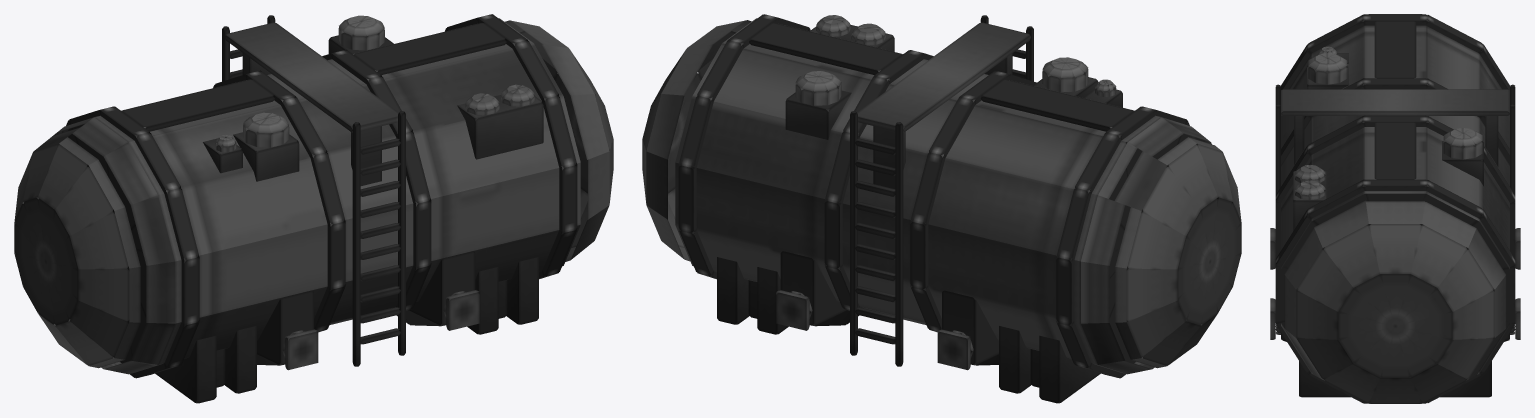
File: fuel_tank_big.obj
3 renders of one model, left to right at view 1: azimuth 30°, elevation 25°; view 2: azimuth 150°, elevation 25°; view 3: azimuth 270°, elevation 25°, orthographic. The views are drawn at different scales.
Visible parts, largest first — view 1: 1; view 2: 1; view 3: 1.
Part boxes in pixels (x1,y1,x2,y2): 1: [14, 14, 613, 403]; 1: [642, 14, 1241, 403]; 1: [1270, 14, 1520, 403].
Size of the model in its own units: 6.66 by 3 by 3.
